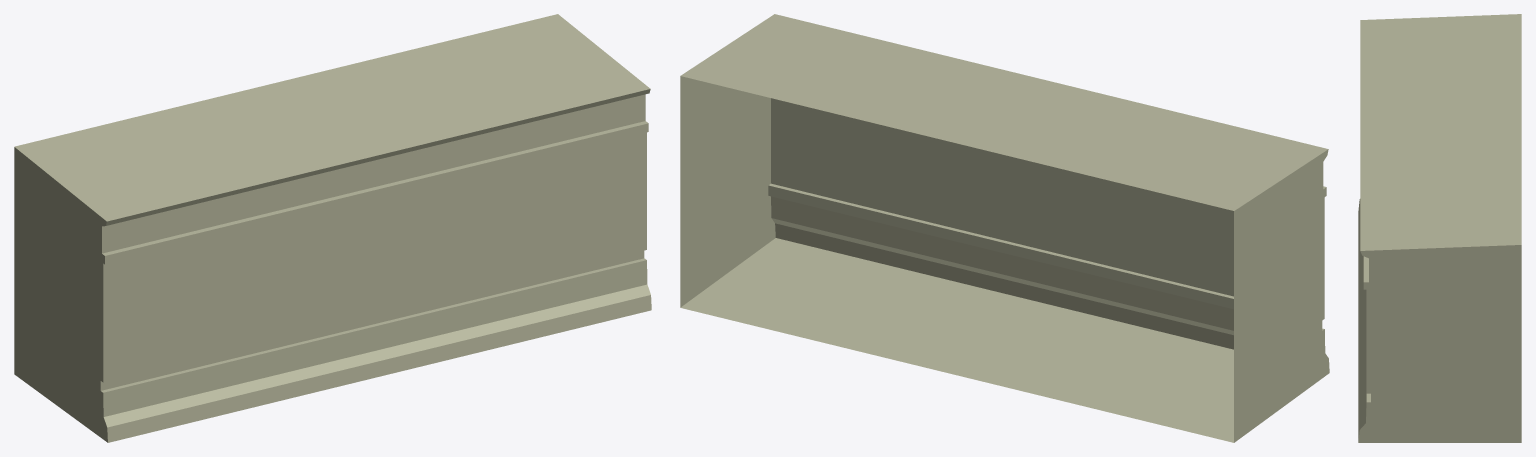
File: SM_castlebase.fbx
3 views of the same model, side by side, from view 1: azimuth 30°, elevation 25°; view 2: azimuth 150°, elevation 25°; view 3: azimuth 270°, elevation 25° (orthographic). The views are drawn at different scales.
Parts seen in each view (by area): view 1: SM_castlebase; view 2: SM_castlebase; view 3: SM_castlebase.
Part boxes in pixels (box(x1,y1,x2,y2)): SM_castlebase: box(14, 14, 651, 442); SM_castlebase: box(680, 14, 1329, 442); SM_castlebase: box(1358, 14, 1521, 442).
Bounding box in the file's own units: 437 × 175 × 131.
